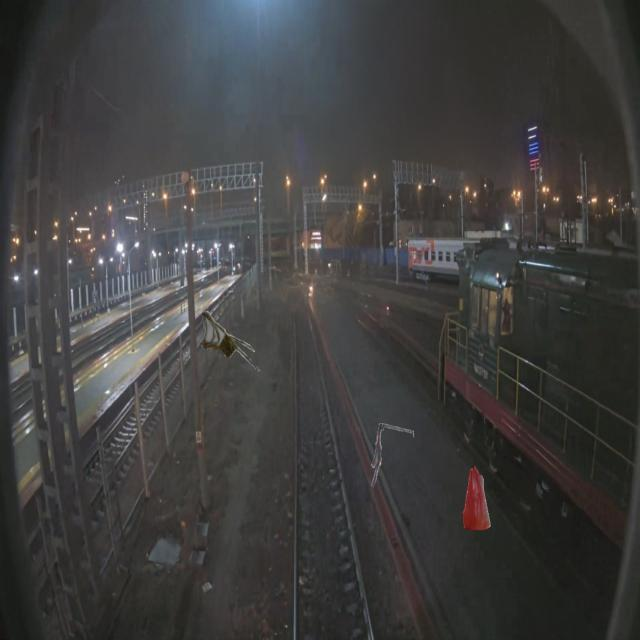floating object: (202, 311, 261, 375), (370, 423, 415, 487)
plastic bag: (463, 466, 490, 530)
